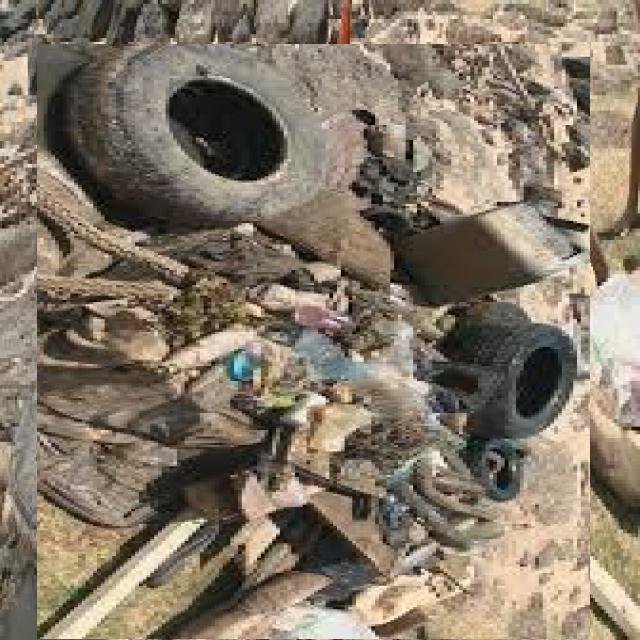garbage: (26, 55, 602, 631)
